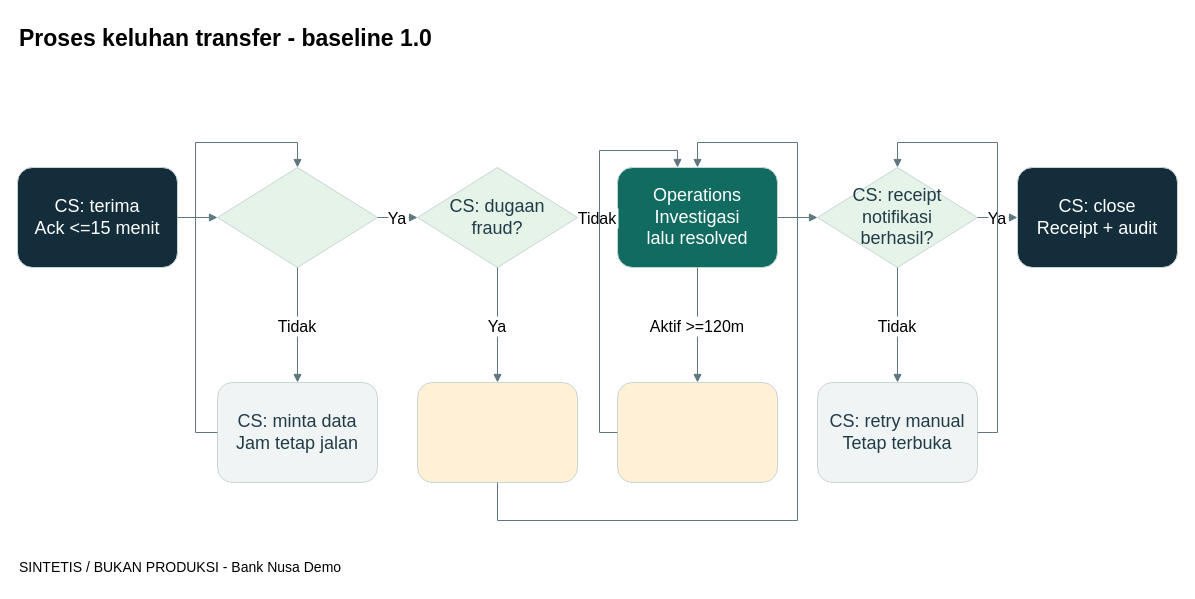
The diagram is 1195 pixels wide and 599 high, and some of its shapes have lost their labels. Here are the shapes that lost their labels. From the top down, the box of each, then its label:
(216, 166, 378, 268): CS: data lengkap?
(416, 382, 578, 482): Supervisor Review segera Lanjut manual
(616, 382, 778, 482): Supervisor Eskalasi SLA Review manual
